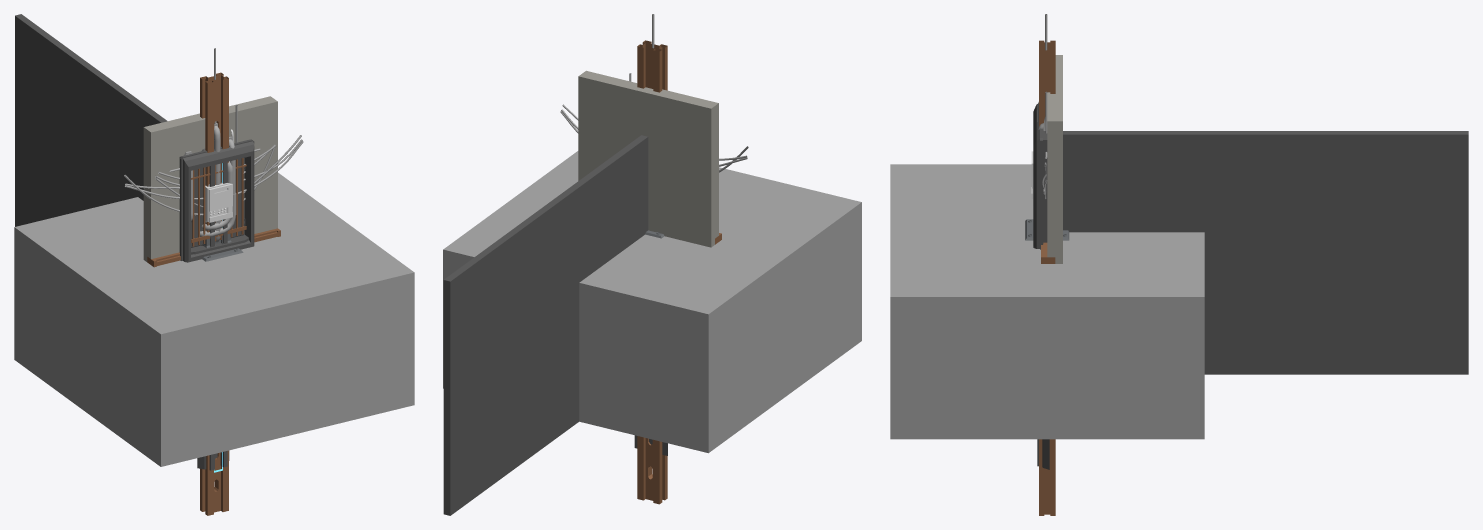
Rendered from 20220912_EnvironmentModels_v_2.fbx.
The picture shows the model from 3 angles, left to right: view 1: azimuth 30°, elevation 25°; view 2: azimuth 150°, elevation 25°; view 3: azimuth 270°, elevation 25°; orthographic projection. The views are drawn at different scales.
Parts seen in each view (by area): view 1: Floor, Moving_Wall_side, Wall, Door, Pillar, Power_Box, Moving_Wall_Box, Top_Wall, pipe_curved_4; view 2: Floor, Moving_Wall_side, Wall, Pillar; view 3: Moving_Wall_side, Floor, Wall, Pillar, Door.
Boxes of the visible parts, x1,y1,x2,y2 form: Floor: [14, 172, 414, 466]; Moving_Wall_side: [15, 14, 167, 226]; Wall: [143, 96, 277, 261]; Door: [179, 139, 254, 262]; Pillar: [200, 72, 228, 515]; Power_Box: [205, 129, 233, 222]; Moving_Wall_Box: [197, 148, 229, 472]; Top_Wall: [147, 228, 280, 267]; pipe_curved_4: [200, 136, 236, 236]; Floor: [443, 151, 861, 453]; Moving_Wall_side: [443, 135, 648, 515]; Wall: [578, 70, 718, 247]; Pillar: [637, 40, 667, 504]; Moving_Wall_side: [1063, 131, 1468, 374]; Floor: [890, 164, 1204, 439]; Wall: [1047, 55, 1062, 263]; Pillar: [1039, 40, 1055, 515]; Door: [1033, 104, 1047, 249].
Bounding box in the file's own units: 20 × 34.83 × 36.81.
